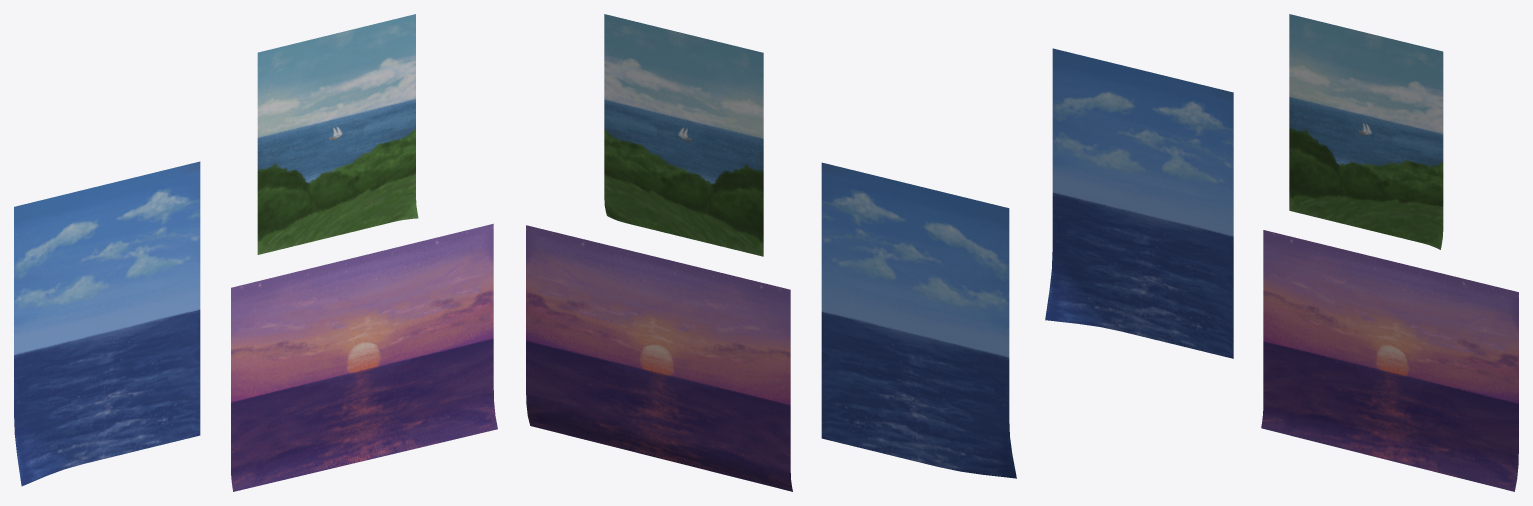
File: Posters.obj
The picture shows the model from 3 angles, left to right: view 1: azimuth 30°, elevation 25°; view 2: azimuth 150°, elevation 25°; view 3: azimuth 330°, elevation 25°; orthographic projection. The views are drawn at different scales.
Visible parts, largest first — view 1: Posters_PostersSG; view 2: Posters_PostersSG; view 3: Posters_PostersSG.
Part boxes in pixels (<box>): Posters_PostersSG: <box>14,14,497,491</box>; Posters_PostersSG: <box>526,14,1016,491</box>; Posters_PostersSG: <box>1045,14,1518,491</box>.
Size of the model in its own units: 6.75 by 5.79 by 0.1867.
1 material, 1 textured.
